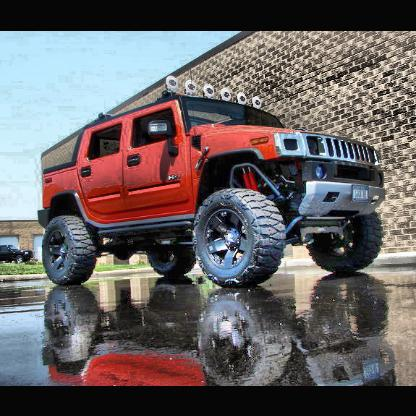HUMMER H2 SUT Crew Cab 2009: (38, 75, 387, 287)
